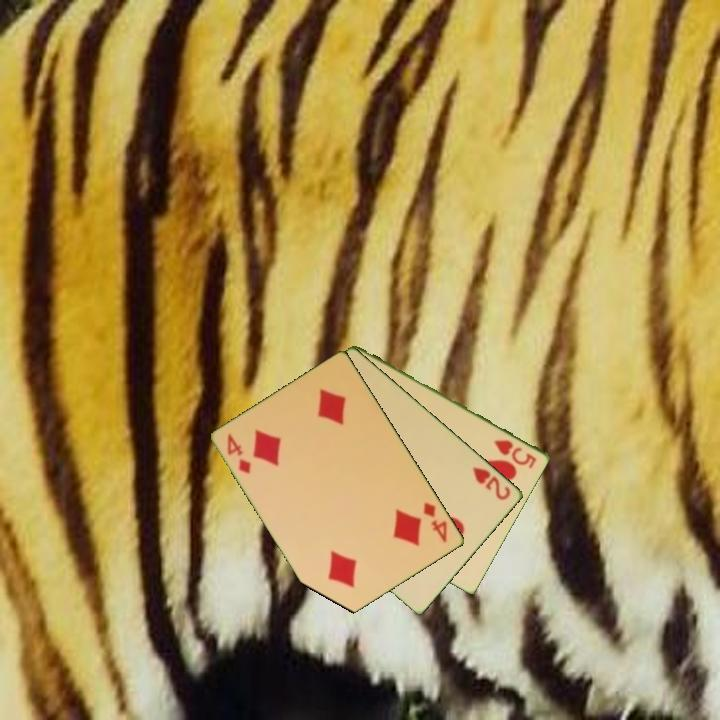2h: (469, 463, 514, 503)
4d: (420, 498, 451, 546), (224, 430, 254, 477)
5h: (490, 436, 540, 471)
